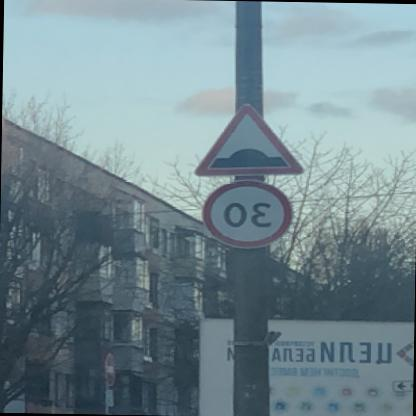speedlimit: (204, 177, 294, 245)
